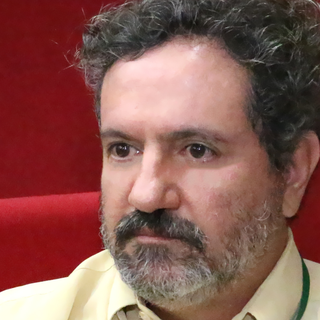eye: (173, 138, 222, 164), (104, 136, 145, 163)
